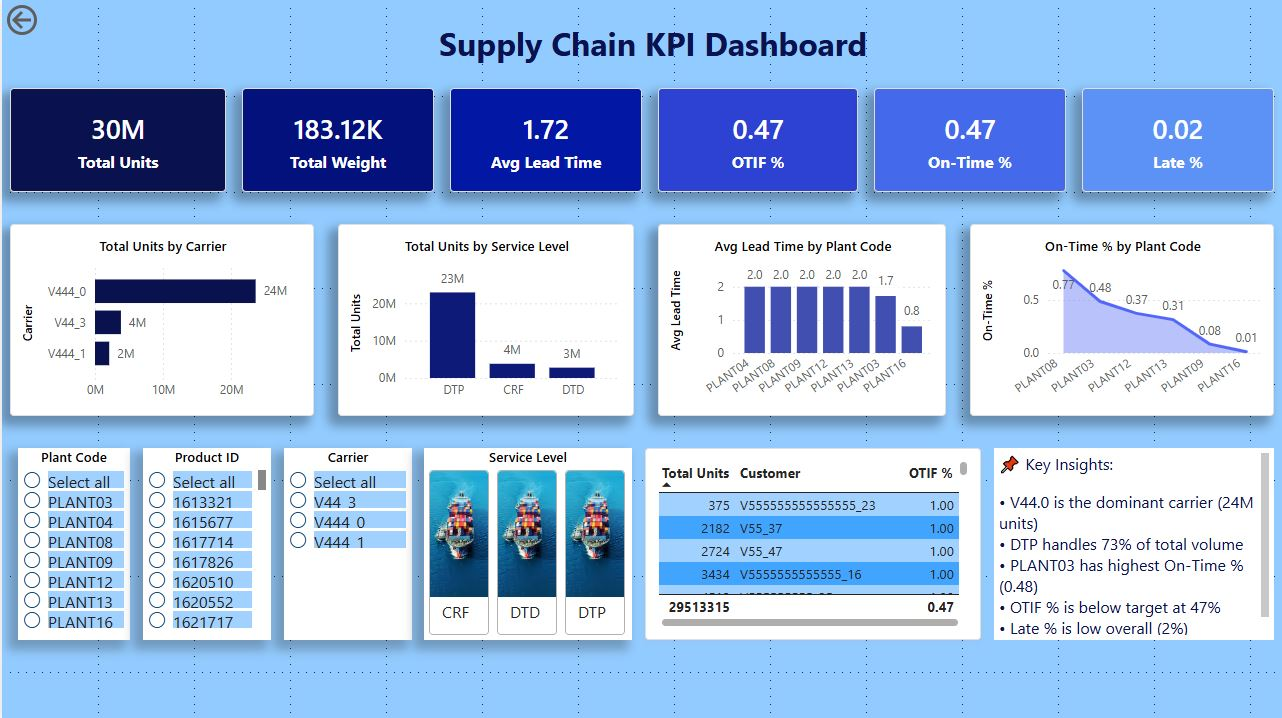

Layout of this report page (visuals, bound fields, positions):
{"tool":"powerbi","page":{"name":"Page 1","canvas":[1280,720],"ordinal":0},"visuals":[{"type":"card","title":"📦","fields":{"Values":["select","Measuress.Total Units"]},"box":[8,88,216,104],"z":0},{"type":"card","fields":{"Values":["Measuress.Total Weight"]},"box":[240,88,192,104],"z":1000},{"type":"card","fields":{"Values":["Measuress.Avg Lead Time"]},"box":[448,88,192,104],"z":2000},{"type":"card","fields":{"Values":["Measuress.OTIF %"]},"box":[656,88,200,104],"z":3000},{"type":"card","fields":{"Values":["Measuress.On-Time %"]},"box":[872,88,192,104],"z":4000},{"type":"card","fields":{"Values":["Measuress.Late %"]},"box":[1080,88,192,104],"z":5000},{"type":"clusteredBarChart","fields":{"Category":["OrderList.Carrier"],"Y":["Measuress.Total Units"]},"box":[8,224,304,192],"z":6000},{"type":"lineClusteredColumnComboChart","fields":{"Category":["OrderList.Plant Code"],"Y":["Measuress.Avg Lead Time"]},"box":[656,224,288,192],"z":7000},{"type":"clusteredColumnChart","fields":{"Y":["Measuress.Total Units"],"Category":["OrderList.Service Level"]},"box":[336,224,296,192],"z":8000},{"type":"lineChart","fields":{"Y":["Measuress.On-Time %"],"Category":["OrderList.Plant Code"]},"box":[968,224,304,192],"z":9000},{"type":"listSlicer","fields":{"Values":["OrderList.Plant Code"]},"box":[16,448,112,192],"z":10000},{"type":"listSlicer","fields":{"Values":["OrderList.Carrier"]},"box":[281.6,448,128,192],"z":11000},{"type":"advancedSlicerVisual","fields":{"Values":["OrderList.Service Level"]},"box":[422.4,448,208,192],"z":12000},{"type":"listSlicer","fields":{"Values":["OrderList.Product ID"]},"box":[140.8,448,128,192],"z":13000},{"type":"actionButton","box":[0,0,100,40],"z":14000},{"type":"textbox","box":[432,16,448,64],"z":16000},{"type":"tableEx","fields":{"Values":["Measuress.Total Units","OrderList.Customer","Measuress.OTIF %"]},"box":[643.2,448,336,192],"z":16001},{"type":"textbox","box":[992,448,280,192],"z":16002}]}

Visuals, with their boxes in screenshot pixels (x1, y1, x2, y2):
"📦" card: (x1=15, y1=87, x2=227, y2=189)
card - Measuress.Total Weight: (x1=243, y1=87, x2=431, y2=189)
card - Measuress.Avg Lead Time: (x1=447, y1=87, x2=636, y2=189)
card - Measuress.OTIF %: (x1=652, y1=87, x2=848, y2=189)
card - Measuress.On-Time %: (x1=864, y1=87, x2=1053, y2=189)
card - Measuress.Late %: (x1=1068, y1=87, x2=1257, y2=189)
clusteredBarChart - OrderList.Carrier x Measuress.Total Units: (x1=15, y1=220, x2=313, y2=409)
lineClusteredColumnComboChart - OrderList.Plant Code x Measuress.Avg Lead Time: (x1=652, y1=220, x2=935, y2=409)
clusteredColumnChart - Measuress.Total Units x OrderList.Service Level: (x1=337, y1=220, x2=628, y2=409)
lineChart - Measuress.On-Time % x OrderList.Plant Code: (x1=958, y1=220, x2=1257, y2=409)
listSlicer - OrderList.Plant Code: (x1=22, y1=440, x2=133, y2=629)
listSlicer - OrderList.Carrier: (x1=284, y1=440, x2=409, y2=629)
advancedSlicerVisual - OrderList.Service Level: (x1=422, y1=440, x2=626, y2=629)
listSlicer - OrderList.Product ID: (x1=145, y1=440, x2=271, y2=629)
actionButton: (x1=7, y1=0, x2=105, y2=39)
textbox: (x1=431, y1=16, x2=872, y2=79)
tableEx - Measuress.Total Units x OrderList.Customer: (x1=639, y1=440, x2=969, y2=629)
textbox: (x1=982, y1=440, x2=1257, y2=629)
